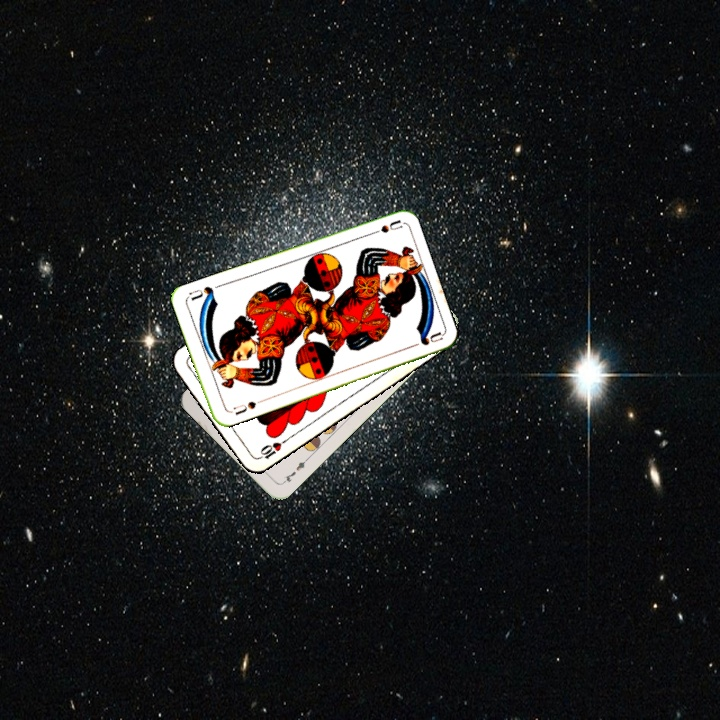E7: (278, 454, 311, 487)
H10: (253, 435, 289, 462)
SU: (363, 216, 404, 238), (229, 397, 259, 418)
